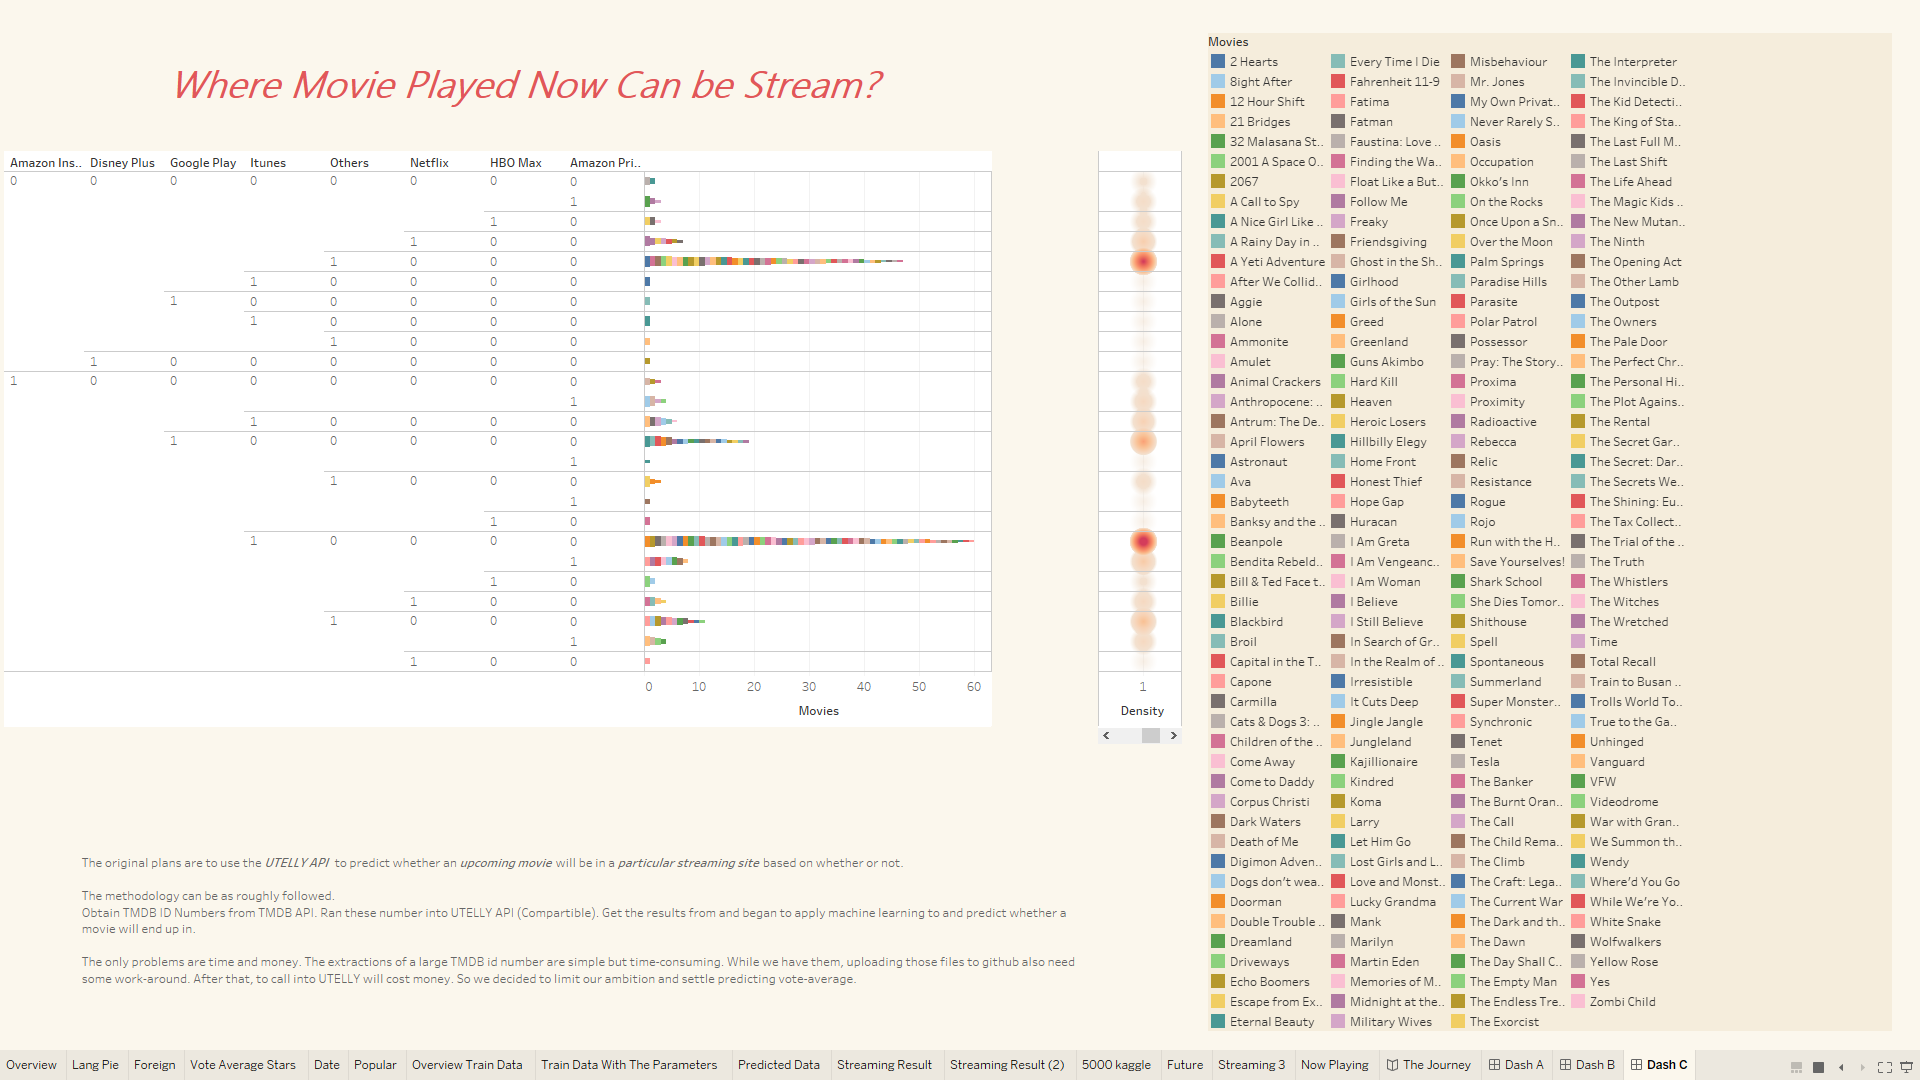

The dashboard page shown, as its layout file describes it:
{"tool":"tableau","page":{"name":"Dash C","canvas":[1000,1000],"units":"permille","ordinal":2},"visuals":[{"type":"worksheet","title":"Streaming Result","mark":"Bar","rows":["Amazon_Instant","Disney_Plus","Google_Play","Itunes","Others","Netflix","HBO_Max","Amazon_Prime"],"cols":["Movies"],"param":"[federated.0gvql4p02729981109lpc15wv29g].[none:Movies:nk]","box":[629,31,356.4,951.3]},{"type":"worksheet","box":[19.3,36.5,510.2,85.2]},{"type":"worksheet","title":"Streaming Result","mark":"Bar","rows":["Amazon_Instant","Disney_Plus","Google_Play","Itunes","Others","Netflix","HBO_Max","Amazon_Prime"],"cols":["Movies"],"box":[2.3,143.8,618.5,662.6]},{"type":"worksheet","title":"Streaming Result (2)","mark":"Heatmap","rows":["Amazon_Instant","Disney_Plus","Google_Play","Itunes","Others","Netflix","HBO_Max","Amazon_Prime"],"cols":["Movies"],"box":[571.7,143.8,43.9,693.6]},{"type":"worksheet","box":[41,761.1,531.3,234.5]}]}

Visuals, with their boxes on the dashboard's canvas, which has no fixed pixel size, in thousandths of its width and height (x1, y1, x2, y2). These are canvas units, not pixel positions in the 1920x1080 screenshot, which may show the page scaled, cropped or inside an application window:
"Streaming Result" worksheet (Bar marks): [629, 31, 985, 982]
worksheet: [19, 36, 530, 122]
"Streaming Result" worksheet (Bar marks): [2, 144, 621, 806]
"Streaming Result (2)" worksheet (Heatmap marks): [572, 144, 616, 837]
worksheet: [41, 761, 572, 996]
